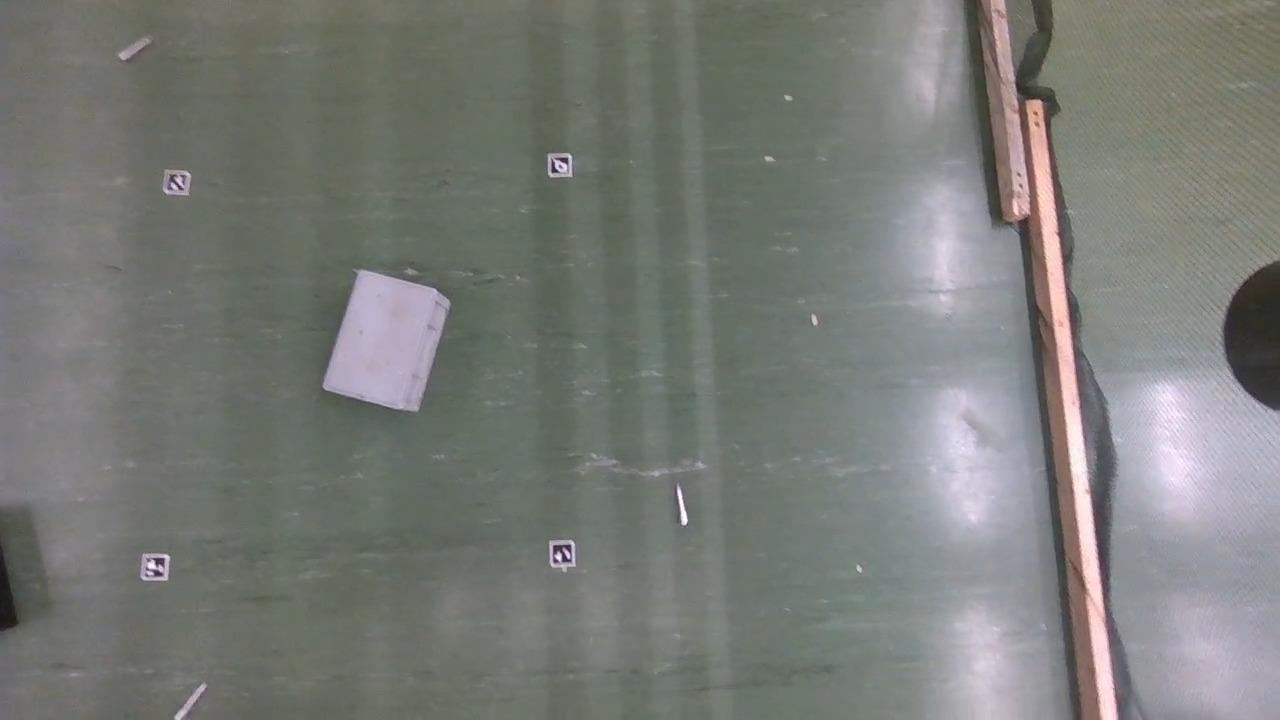probes: (176, 685, 205, 720), (120, 37, 151, 62), (676, 487, 688, 527)
rako: (322, 272, 450, 414)
